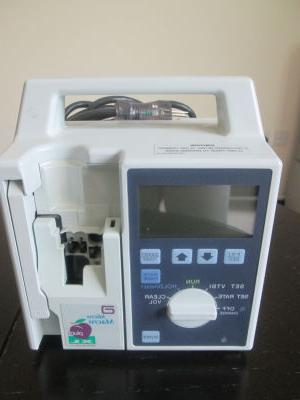plumxl1: (3, 85, 289, 351)
